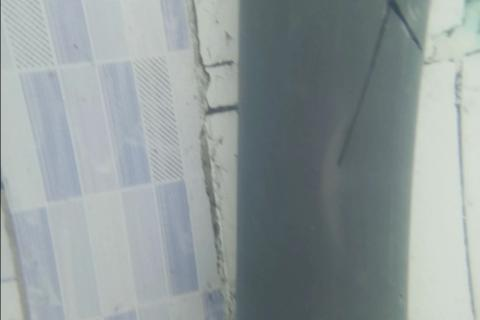keretakan: (335, 1, 423, 171)
